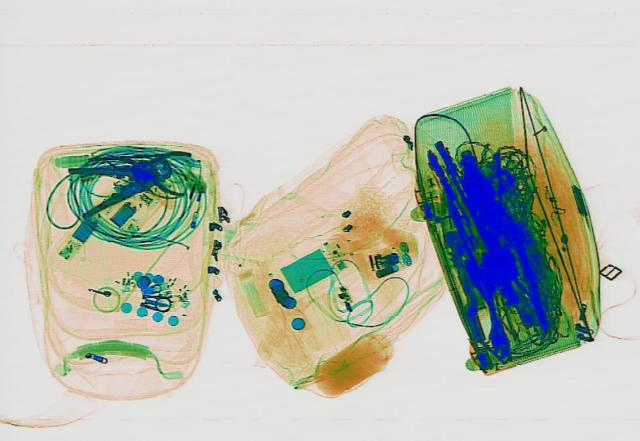Pliers: (51, 146, 183, 218), (97, 139, 197, 196)
